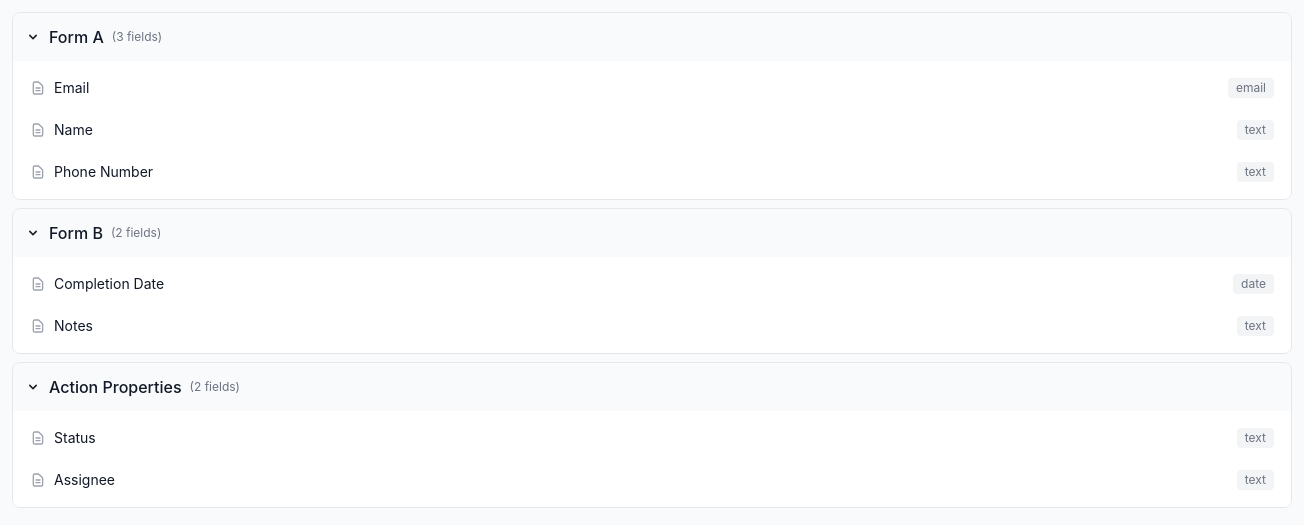
Test: DataSourceTree › toggles data source expansion when header is clicked
This screenshot has width=1304, height=525.
expect the text "Email" is shown: met, box [54,78,89,98]
# Click Form A header to collapse
Click the text "Form A" at (76, 37), box [49,25,104,49]
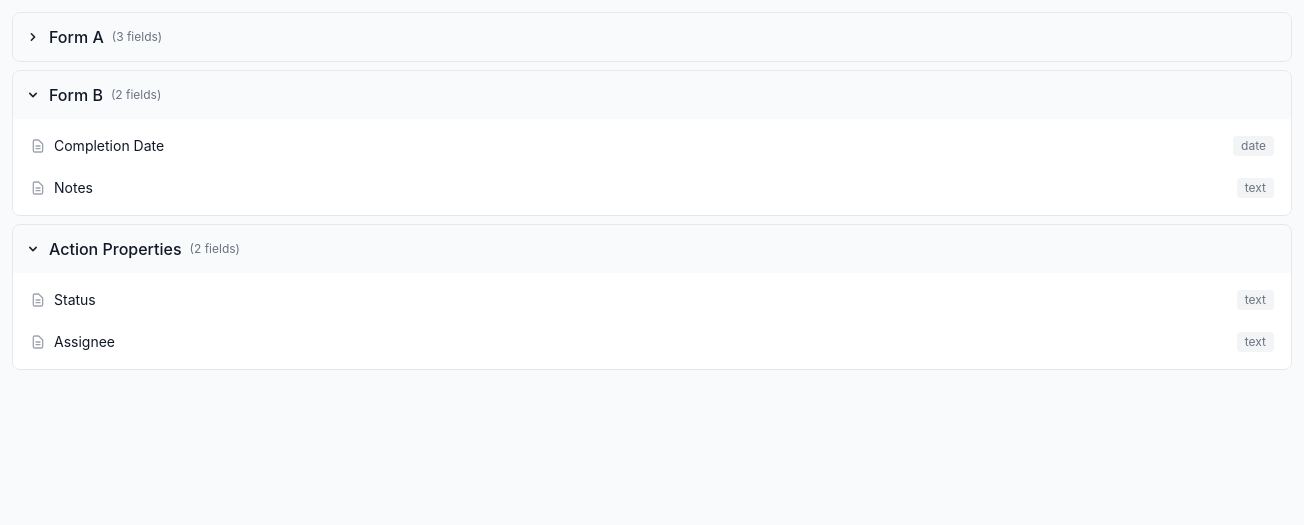
expect the button "Email" is gone: met
# Click again to expand
Click the text "Form A" at (76, 37), box [49,25,104,49]
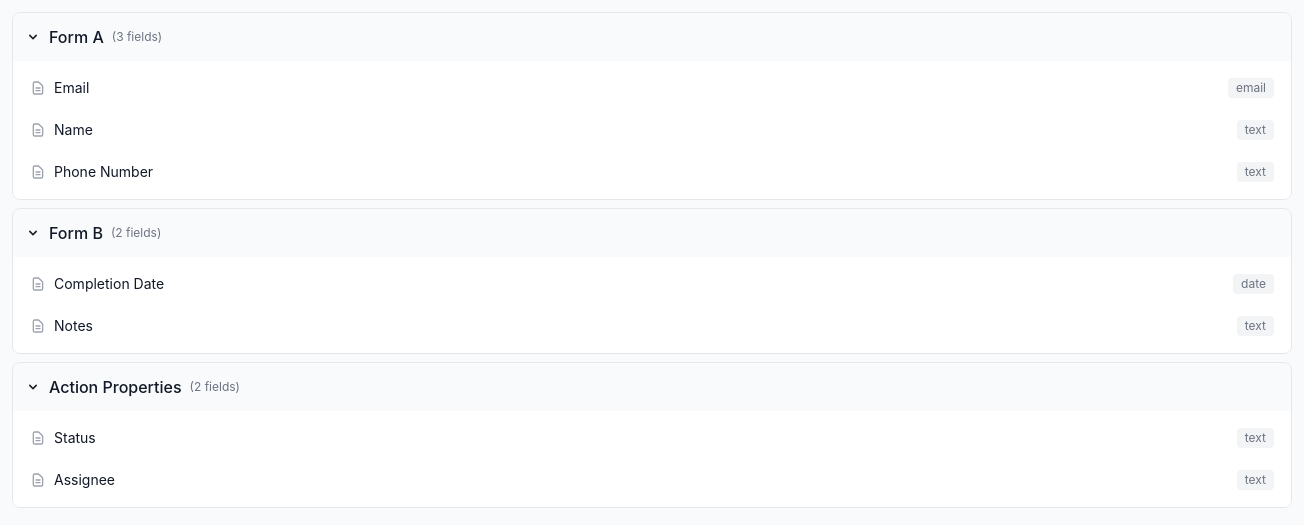
expect the text "Email" is shown: met, box [54,78,89,98]
